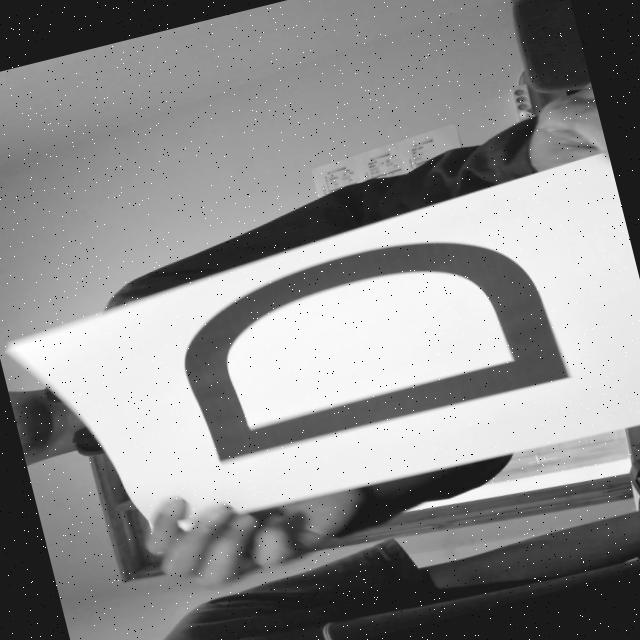d: (152, 186, 592, 482)
